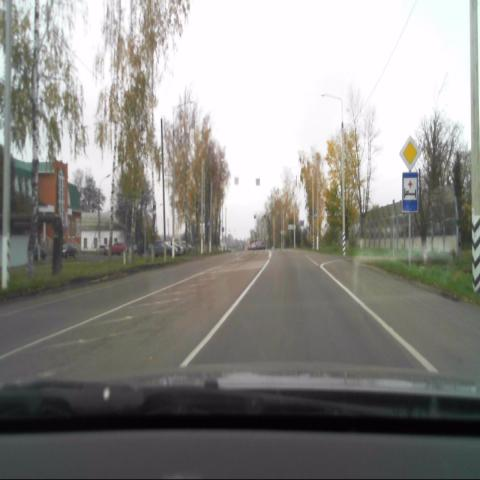7_2: (402, 172, 419, 213)
